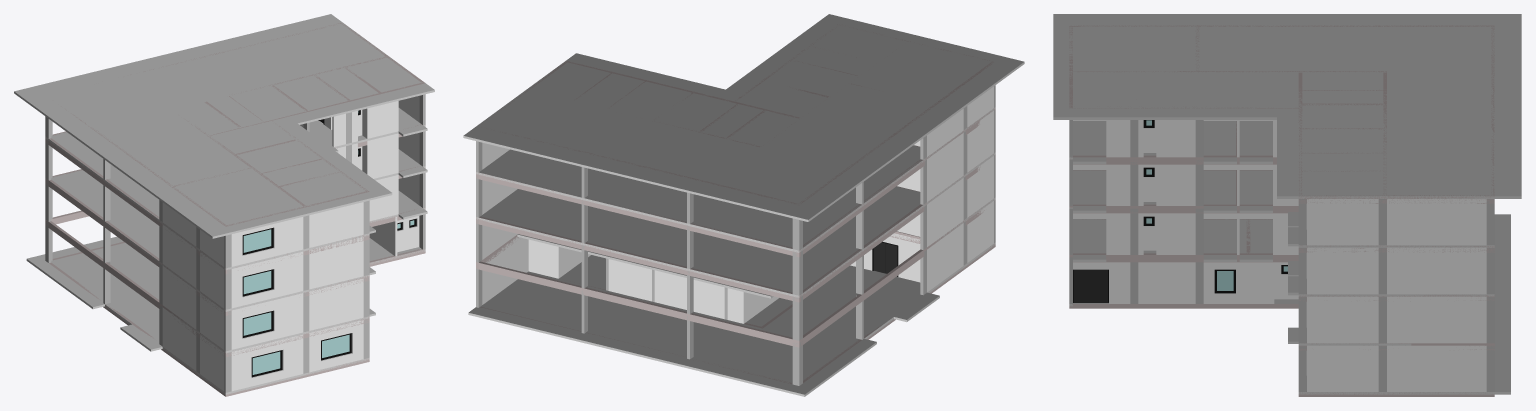
3 views of the same model, side by side, from view 1: azimuth 30°, elevation 25°; view 2: azimuth 150°, elevation 25°; view 3: azimuth 270°, elevation 25° (orthographic). The views are drawn at different scales.
Visible parts, largest first — view 1: product-80dc691d-0ea9-492f-9ae3-f06774a8f376-body, product-537eac01-c77b-4607-ab8c-325271144900-body, product-e82295b1-c30a-439c-867f-6f5724d91b12-body, product-bd70b2e1-e519-4371-8d5d-bc170937cae4-body, product-4352dfa3-42c5-4910-8446-4ed23fe5b405-body, product-04fcce60-e0f9-4c7c-b0e0-b97428306230-body, product-f4c52f09-8be0-4f00-bcfc-873e080119f1-body, product-a67db7e5-9973-44b9-bc61-2c997a7fb2a1-body, product-27fbccb1-d47a-4365-8a18-dccd86d69bea-body, product-7fc8f35e-6c23-4e02-ac0d-6f1974f34a03-body, product-7450e762-3527-4d2e-8e44-a8df57bf982c-body, product-857e1a88-242a-4b36-97ec-273b1c9ac6ea-body (+30 smaller); view 2: product-80dc691d-0ea9-492f-9ae3-f06774a8f376-body, product-537eac01-c77b-4607-ab8c-325271144900-body, product-e82295b1-c30a-439c-867f-6f5724d91b12-body, product-bd70b2e1-e519-4371-8d5d-bc170937cae4-body, product-6ff262c6-a2a9-4e5e-93be-f32b0dd03136-body, product-fb38190a-967f-4ef4-b8fe-b20949acd91e-body, product-23871358-6641-4e36-b70d-0e743cbfe448-body, product-3a3f3ceb-a23f-48fb-a259-51500d228174-body, product-8db08b20-01b3-4597-84ab-81bac943db66-body, product-e0203e12-a123-4647-8231-5f90228451fc-body, product-9a3fbe48-2a23-4aae-afb0-7f26b45f0cad-body, product-5cf2ad30-a6e7-420f-874f-dfa16327516e-body (+21 smaller); view 3: product-80dc691d-0ea9-492f-9ae3-f06774a8f376-body, product-e82295b1-c30a-439c-867f-6f5724d91b12-body, product-bd70b2e1-e519-4371-8d5d-bc170937cae4-body, product-1800bb72-a3fe-447b-9e91-b87bf2a479f4-body, product-42ac3e73-c577-4d7a-9b97-aaadc2152775-body, product-e53ac12d-50c6-40ae-bb73-ee5adde33d09-body, product-8db08b20-01b3-4597-84ab-81bac943db66-body, product-5fdeb62a-df3a-4d28-aa13-8332c5a5e813-body, product-537eac01-c77b-4607-ab8c-325271144900-body, product-cb0ce4bf-fc73-4777-8fad-eee240da2e21-body, product-7f5825ee-2bed-440a-93e3-065d0e9ac328-body, product-00234b35-5426-4106-b251-227c9362eb67-body (+40 smaller).
Part boxes in pixels (left/top/right/bottom): product-80dc691d-0ea9-492f-9ae3-f06774a8f376-body: left=14, top=14, right=434, bottom=238; product-537eac01-c77b-4607-ab8c-325271144900-body: left=26, top=236, right=425, bottom=394; product-e82295b1-c30a-439c-867f-6f5724d91b12-body: left=45, top=149, right=427, bottom=311; product-bd70b2e1-e519-4371-8d5d-bc170937cae4-body: left=45, top=108, right=427, bottom=269; product-4352dfa3-42c5-4910-8446-4ed23fe5b405-body: left=231, top=251, right=303, bottom=308; product-04fcce60-e0f9-4c7c-b0e0-b97428306230-body: left=231, top=293, right=303, bottom=349; product-f4c52f09-8be0-4f00-bcfc-873e080119f1-body: left=231, top=334, right=303, bottom=391; product-a67db7e5-9973-44b9-bc61-2c997a7fb2a1-body: left=309, top=278, right=363, bottom=330; product-27fbccb1-d47a-4365-8a18-dccd86d69bea-body: left=309, top=237, right=363, bottom=289; product-7fc8f35e-6c23-4e02-ac0d-6f1974f34a03-body: left=231, top=217, right=303, bottom=266; product-7450e762-3527-4d2e-8e44-a8df57bf982c-body: left=309, top=202, right=363, bottom=247; product-857e1a88-242a-4b36-97ec-273b1c9ac6ea-body: left=309, top=320, right=363, bottom=372; product-80dc691d-0ea9-492f-9ae3-f06774a8f376-body: left=463, top=14, right=1024, bottom=221; product-537eac01-c77b-4607-ab8c-325271144900-body: left=468, top=242, right=995, bottom=396; product-e82295b1-c30a-439c-867f-6f5724d91b12-body: left=476, top=152, right=995, bottom=297; product-bd70b2e1-e519-4371-8d5d-bc170937cae4-body: left=476, top=107, right=995, bottom=252; product-6ff262c6-a2a9-4e5e-93be-f32b0dd03136-body: left=478, top=261, right=796, bottom=346; product-fb38190a-967f-4ef4-b8fe-b20949acd91e-body: left=478, top=216, right=796, bottom=301; product-23871358-6641-4e36-b70d-0e743cbfe448-body: left=478, top=172, right=796, bottom=255; product-3a3f3ceb-a23f-48fb-a259-51500d228174-body: left=654, top=270, right=724, bottom=319; product-8db08b20-01b3-4597-84ab-81bac943db66-body: left=482, top=237, right=528, bottom=304; product-e0203e12-a123-4647-8231-5f90228451fc-body: left=927, top=133, right=963, bottom=201; product-9a3fbe48-2a23-4aae-afb0-7f26b45f0cad-body: left=927, top=223, right=963, bottom=292; product-5cf2ad30-a6e7-420f-874f-dfa16327516e-body: left=927, top=178, right=963, bottom=246; product-80dc691d-0ea9-492f-9ae3-f06774a8f376-body: left=1053, top=14, right=1521, bottom=198; product-e82295b1-c30a-439c-867f-6f5724d91b12-body: left=1069, top=170, right=1494, bottom=296; product-bd70b2e1-e519-4371-8d5d-bc170937cae4-body: left=1069, top=121, right=1494, bottom=247; product-1800bb72-a3fe-447b-9e91-b87bf2a479f4-body: left=1073, top=219, right=1411, bottom=345; product-42ac3e73-c577-4d7a-9b97-aaadc2152775-body: left=1387, top=296, right=1486, bottom=343; product-e53ac12d-50c6-40ae-bb73-ee5adde33d09-body: left=1387, top=247, right=1486, bottom=294; product-8db08b20-01b3-4597-84ab-81bac943db66-body: left=1387, top=345, right=1486, bottom=391; product-5fdeb62a-df3a-4d28-aa13-8332c5a5e813-body: left=1387, top=199, right=1486, bottom=245; product-537eac01-c77b-4607-ab8c-325271144900-body: left=1069, top=214, right=1510, bottom=394; product-cb0ce4bf-fc73-4777-8fad-eee240da2e21-body: left=1307, top=296, right=1378, bottom=343; product-7f5825ee-2bed-440a-93e3-065d0e9ac328-body: left=1307, top=247, right=1378, bottom=294; product-00234b35-5426-4106-b251-227c9362eb67-body: left=1307, top=199, right=1378, bottom=245.
Size of the model in its own units: 24 by 12.3 by 26.05.
